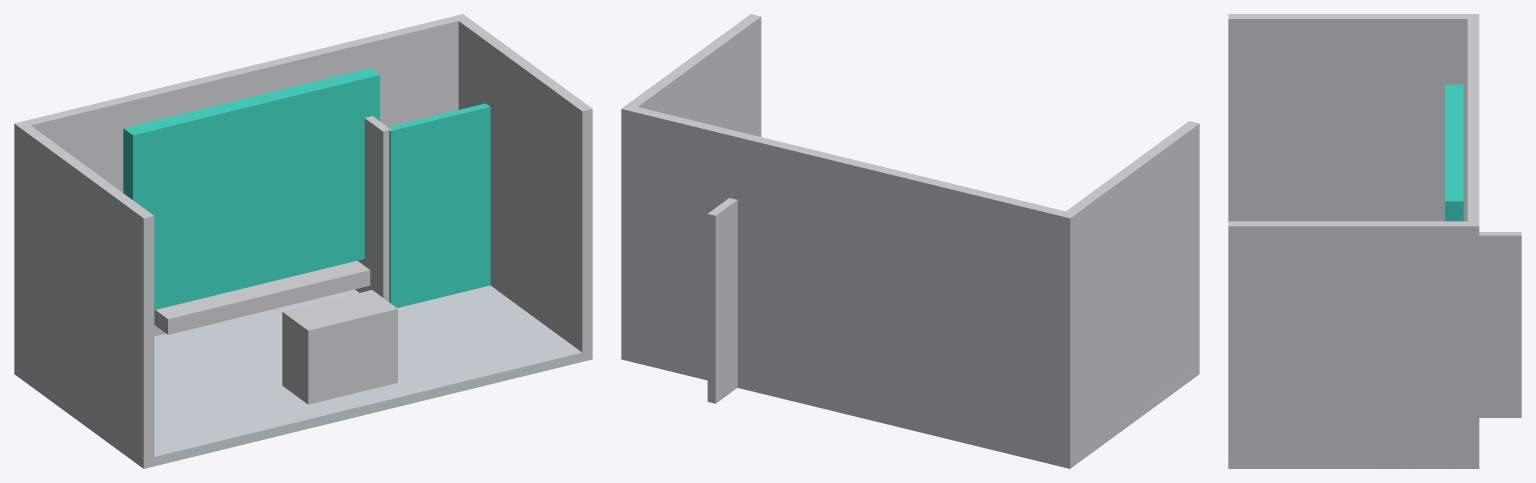
The picture shows the model from 3 angles, left to right: view 1: azimuth 30°, elevation 25°; view 2: azimuth 150°, elevation 25°; view 3: azimuth 270°, elevation 25°; orthographic projection. The views are drawn at different scales.
Parts seen in each view (by area): view 1: Exhibition Booth Concept; view 2: Exhibition Booth Concept; view 3: Exhibition Booth Concept.
Part boxes in pixels (x1,y1,x2,y2): Exhibition Booth Concept: [14, 14, 592, 468]; Exhibition Booth Concept: [621, 14, 1199, 468]; Exhibition Booth Concept: [1228, 14, 1521, 468].
Bounding box in the file's own units: 6 × 3.2 × 3.51.
